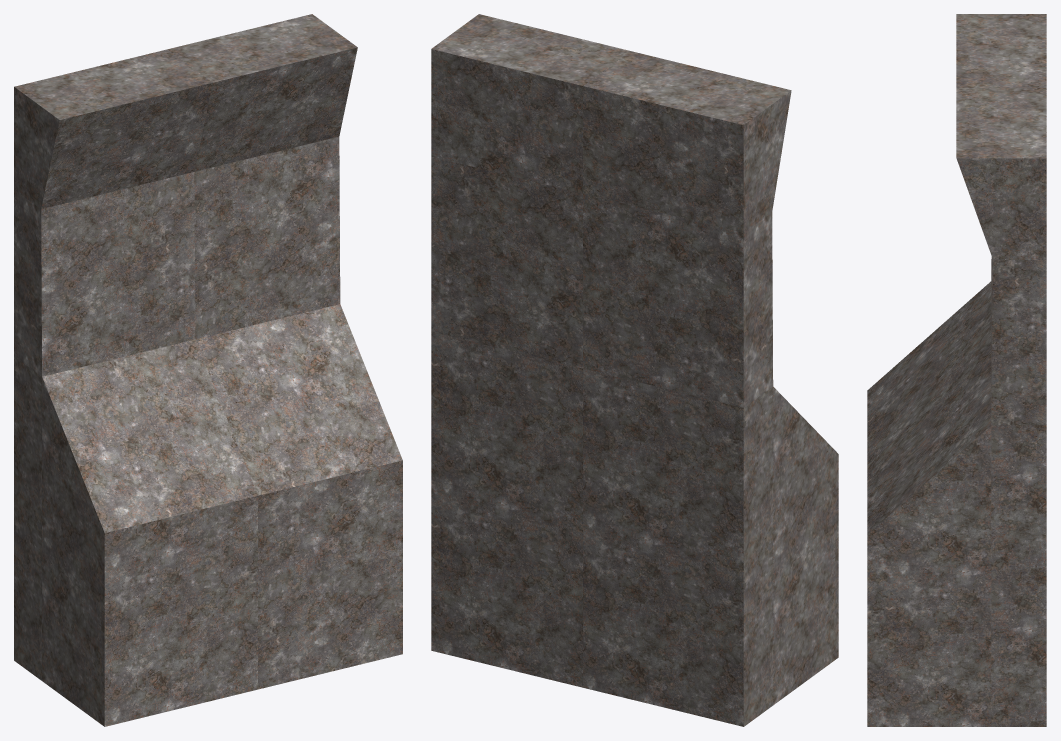
Rendered from reactor_room_console_only.glb.
The picture shows the model from 3 angles, left to right: view 1: azimuth 30°, elevation 25°; view 2: azimuth 150°, elevation 25°; view 3: azimuth 270°, elevation 25°; orthographic projection. The views are drawn at different scales.
Parts seen in each view (by area): view 1: Cube; view 2: Cube; view 3: Cube.
Boxes of the visible parts, bbox=[...] form: Cube: bbox=[14, 14, 402, 726]; Cube: bbox=[431, 14, 838, 726]; Cube: bbox=[867, 14, 1046, 726].
Size of the model in its own units: 1.86 by 3.43 by 0.9802.
1 material, 1 textured.
